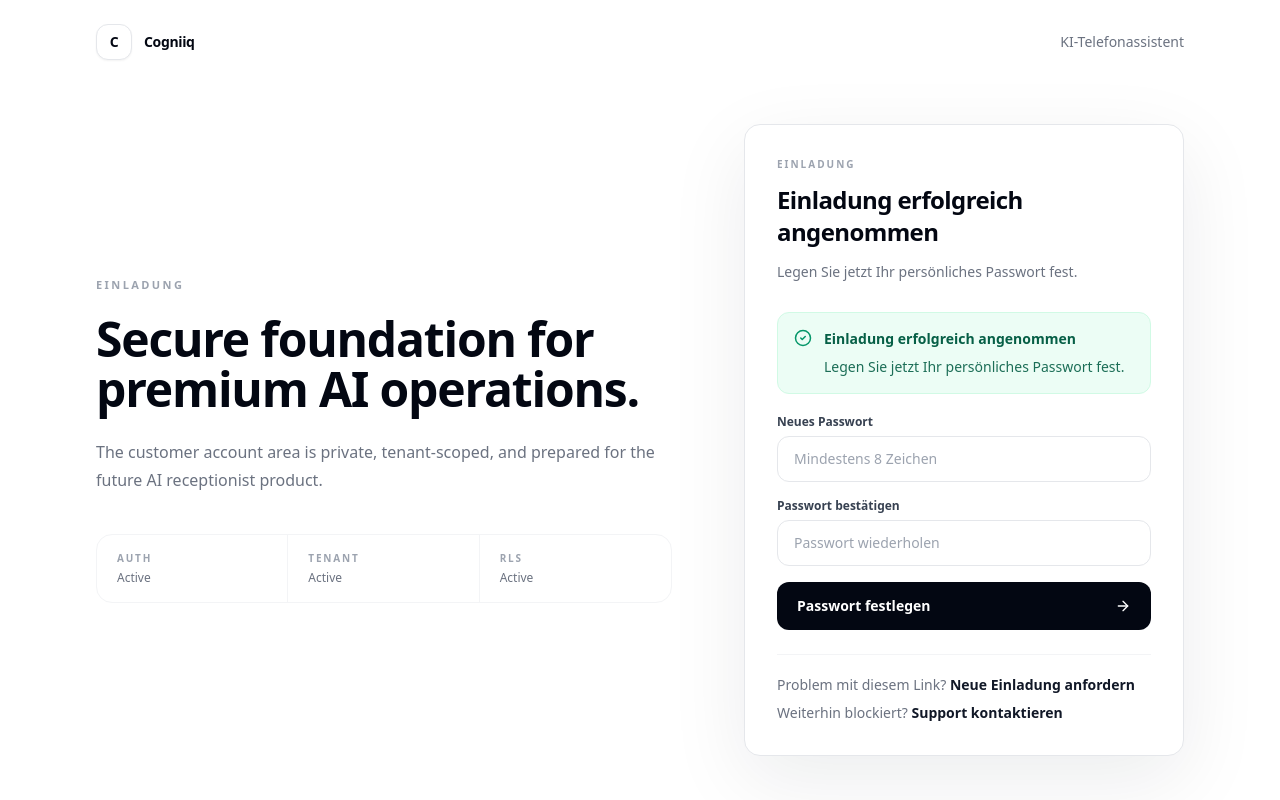
Test: invite flow › rejects a mismatched confirmation without calling Supabase
The image size is (1280, 800).
Type "correct-horse" into the password field labelled "Neues Passwort".
click(964, 459); type("correct-horse")  # box [777,436,1151,482]
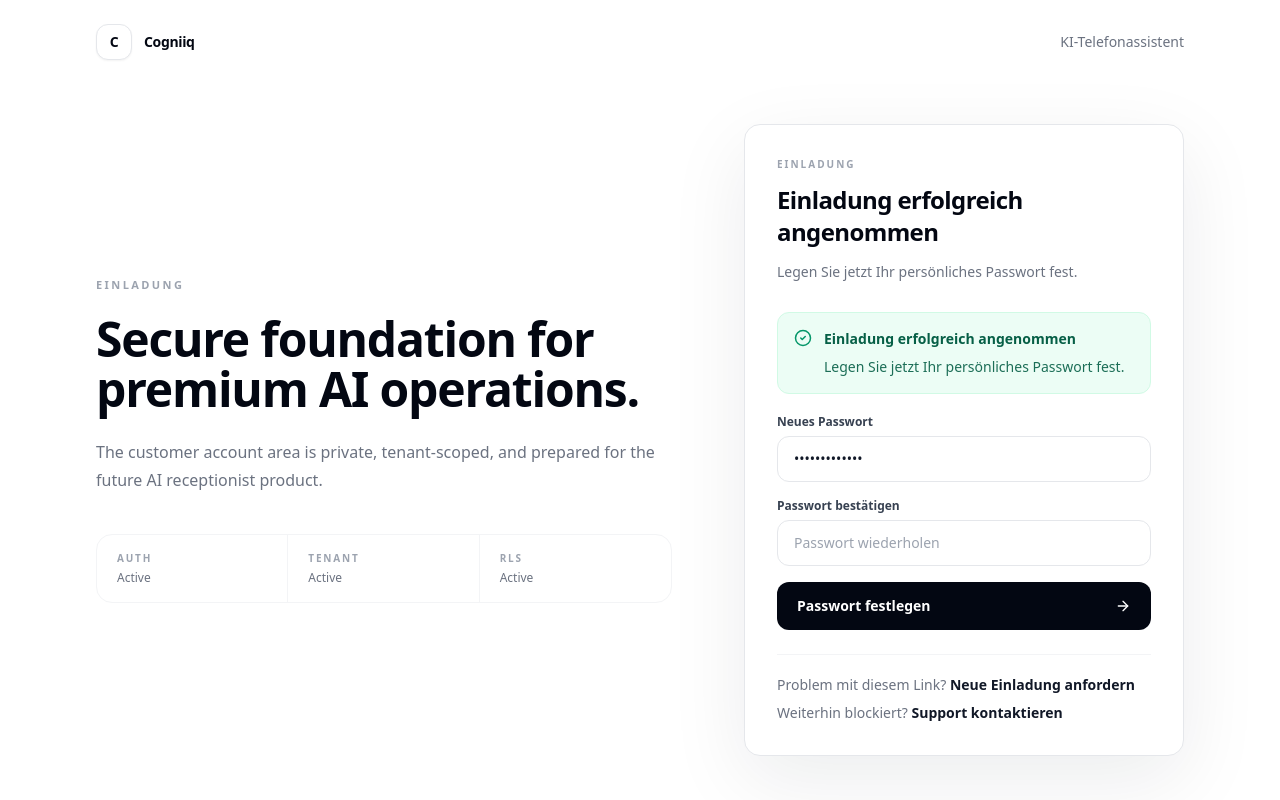
Type "correct-hors" into the password field labelled "Passwort bestätigen".
click(964, 543); type("correct-hors")  # box [777,520,1151,566]
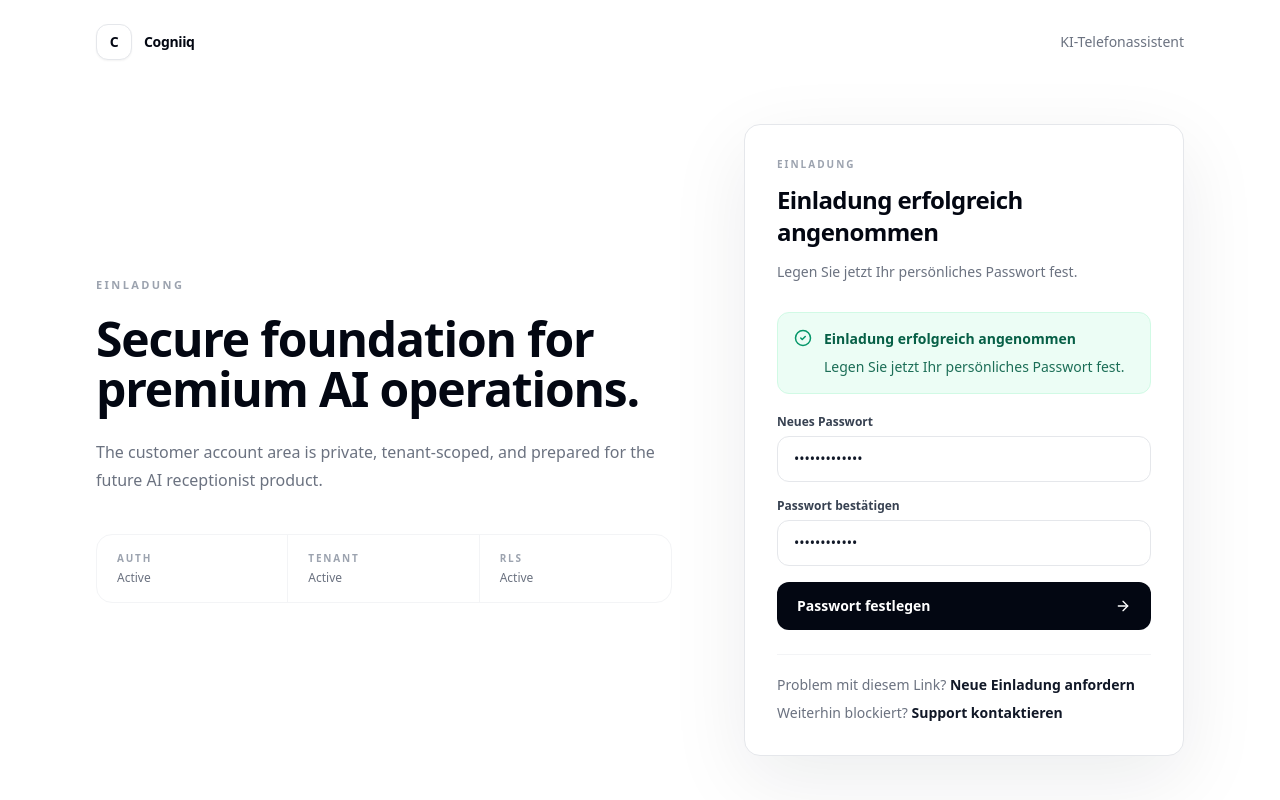
Click the button "Passwort festlegen".
click(864, 606)  # box [777,582,1151,630]
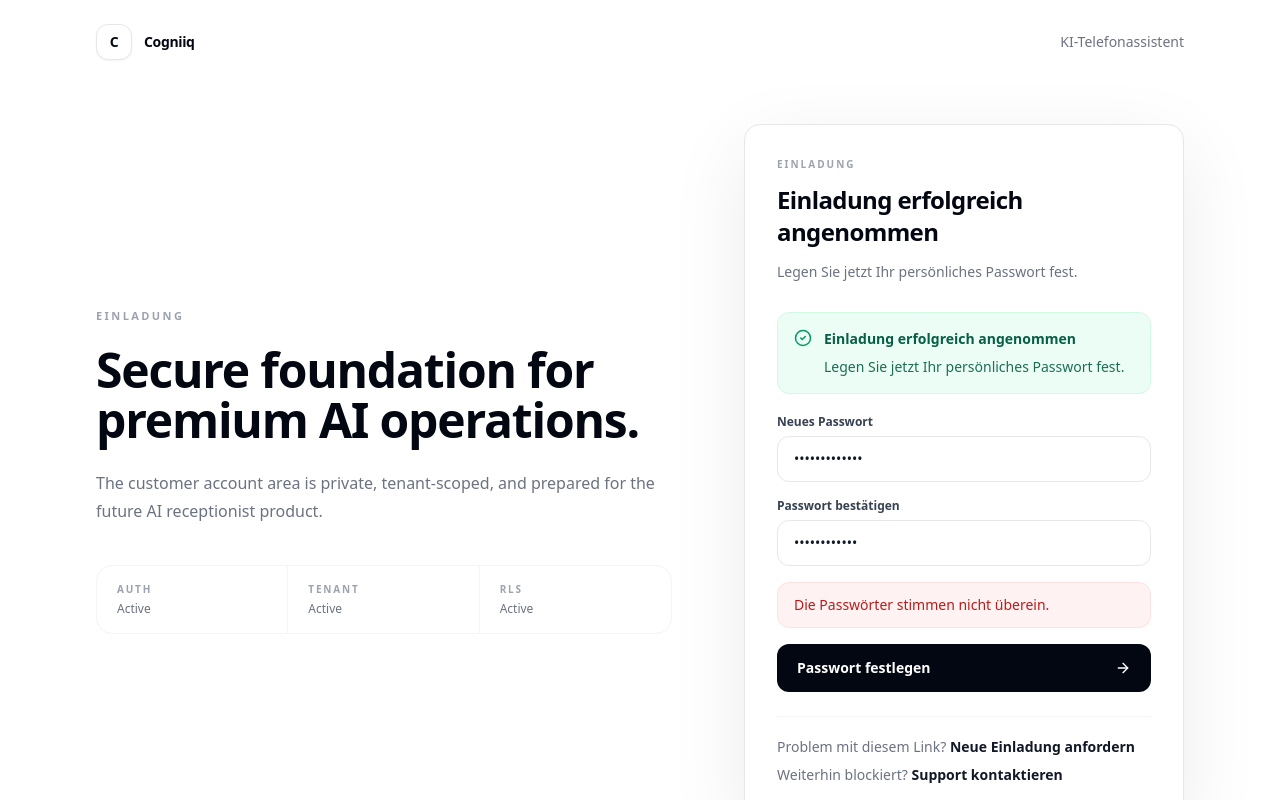
Expected: the message "Die Passwörter stimmen nicht überein." is shown, [777,582,1151,628]
